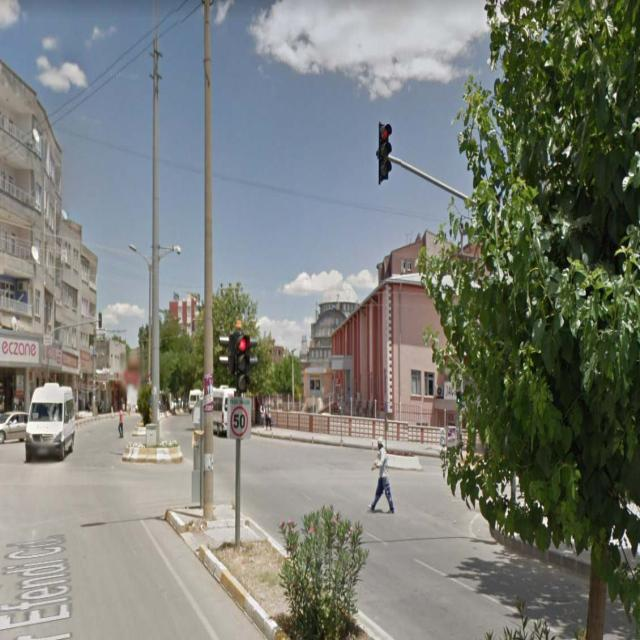kirmizi: (236, 337, 249, 391), (380, 123, 389, 179)
